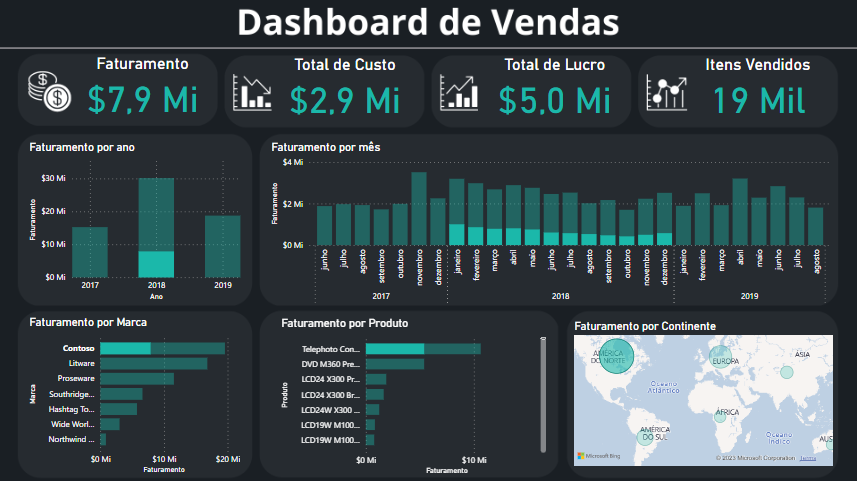

This screenshot's page, from the dashboard's own definition file:
{"tool":"powerbi","page":{"name":"Página 1","canvas":[1280,720],"ordinal":0},"visuals":[{"type":"card","title":"Faturamento","fields":{"Values":["Sum(Planilha1.Faturamento Total)"]},"box":[106.7,81.7,216.7,95],"z":0},{"type":"card","title":"Total de Custo","fields":{"Values":["Sum(Planilha1.Custo Total)"]},"box":[404.5,84.1,223.9,94.3],"z":1000},{"type":"card","title":"Total de Lucro","fields":{"Values":["Sum(Planilha1.Lucro Total)"]},"box":[716,84,226,94],"z":2000},{"type":"card","title":"Itens Vendidos","fields":{"Values":["Sum(Planilha1.Quantidade Vendida)"]},"box":[1020,83.3,226.7,93.3],"z":3000},{"type":"columnChart","title":"Faturamento por mês","fields":{"Y":["Sum(Planilha1.Faturamento Total)"],"Category":["Planilha1.Data da Venda.Variation.Hierarquia de datas.Ano","Planilha1.Data da Venda.Variation.Hierarquia de datas.Mês"]},"box":[401.1,210.2,845.5,263.6],"z":4000},{"type":"columnChart","title":"Faturamento por ano","fields":{"Category":["Planilha1.Data da Venda.Variation.Hierarquia de datas.Ano"],"Y":["Sum(Planilha1.Faturamento Total)"]},"box":[39.8,210.2,325,244.3],"z":5000},{"type":"barChart","title":"Faturamento por Marca","fields":{"Category":["Planilha1.Marca"],"Y":["Sum(Planilha1.Faturamento Total)"]},"box":[39.8,471.6,325,242],"z":6000},{"type":"map","title":"Faturamento por Continente","fields":{"Category":["Planilha1.Continente"],"Size":["Sum(Planilha1.Faturamento Total)"]},"box":[854,478,396,224],"z":6001},{"type":"barChart","title":"Faturamento por Produto","fields":{"Category":["Planilha1.Produto"],"Y":["Sum(Planilha1.Faturamento Total)"]},"box":[415.9,473.9,404.5,242],"z":6002}]}

Visuals, with their boxes in screenshot pixels (x1, y1, x2, y2), scaled from the page's 1280x720 canvas onto the 857x481 screenshot:
"Faturamento" card: bbox=(71, 55, 217, 118)
"Total de Custo" card: bbox=(271, 56, 421, 119)
"Total de Lucro" card: bbox=(479, 56, 631, 119)
"Itens Vendidos" card: bbox=(683, 56, 835, 118)
"Faturamento por mês" columnChart: bbox=(269, 140, 835, 317)
"Faturamento por ano" columnChart: bbox=(27, 140, 244, 304)
"Faturamento por Marca" barChart: bbox=(27, 315, 244, 477)
"Faturamento por Continente" map: bbox=(572, 319, 837, 469)
"Faturamento por Produto" barChart: bbox=(278, 317, 549, 478)
